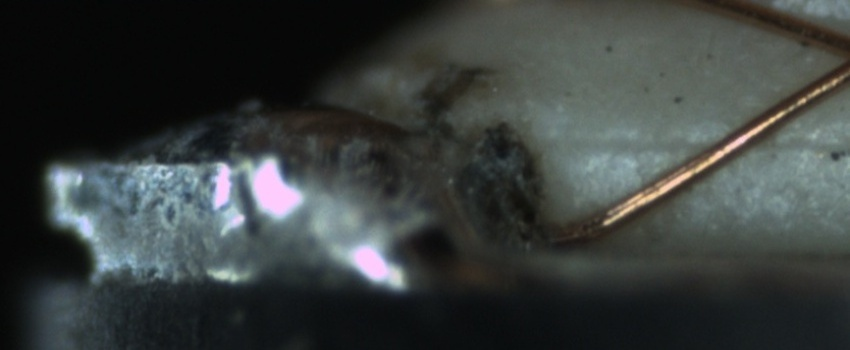CL: (827, 29, 850, 83)
DL: (563, 110, 846, 177)
